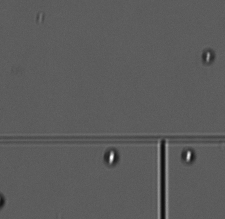Living Cell: (103, 148, 121, 167), (180, 147, 196, 165), (200, 47, 216, 65)
